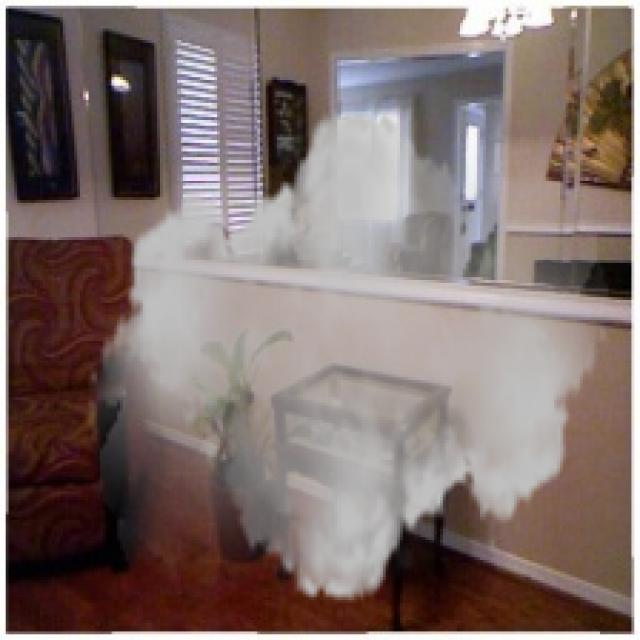smoke: (89, 88, 608, 623)
